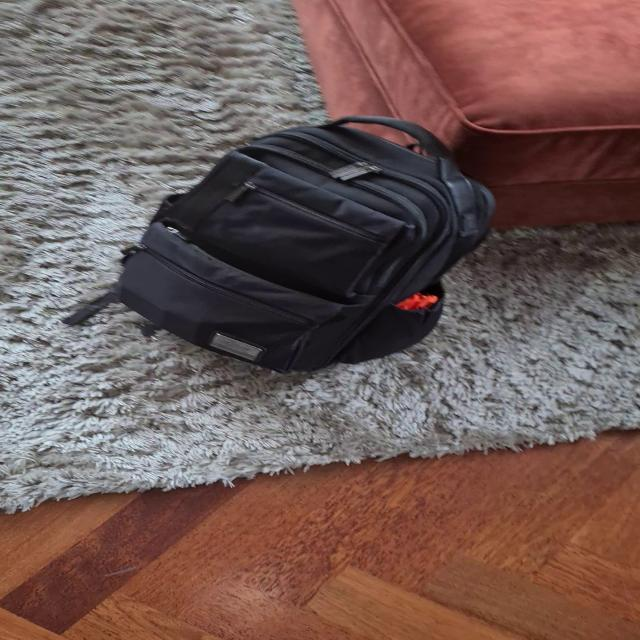backpack: (95, 106, 509, 378)
